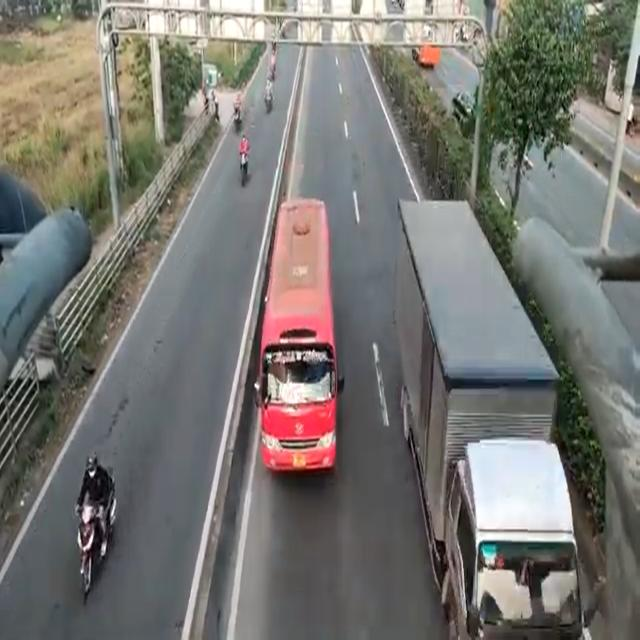bus: (270, 200, 334, 473)
motor: (76, 457, 111, 579), (238, 131, 248, 187)
truck: (397, 192, 575, 638)
